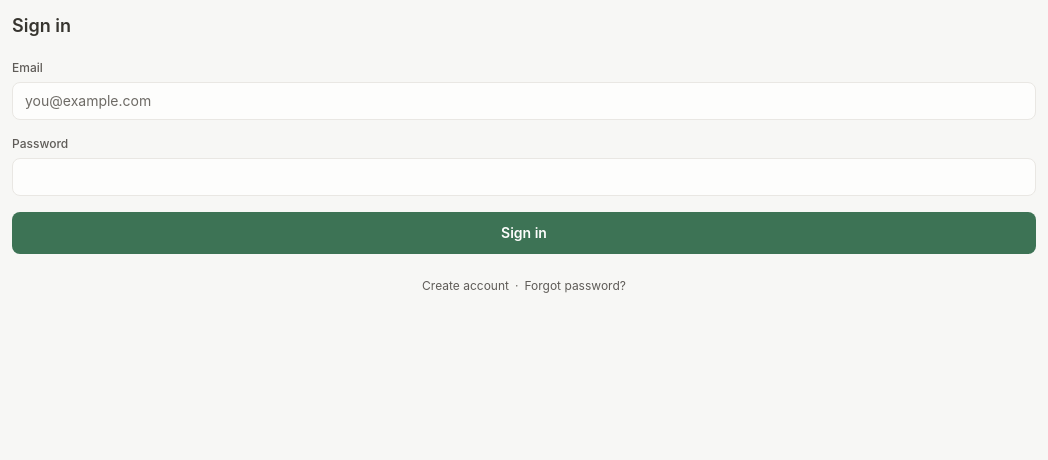
Test case: LoginPage error mapping › routes a server field error onto that field, including backup_code
Type "alex@example.com" into the field labelled "Email". click: (524, 101)
box: [12, 82, 1036, 120]
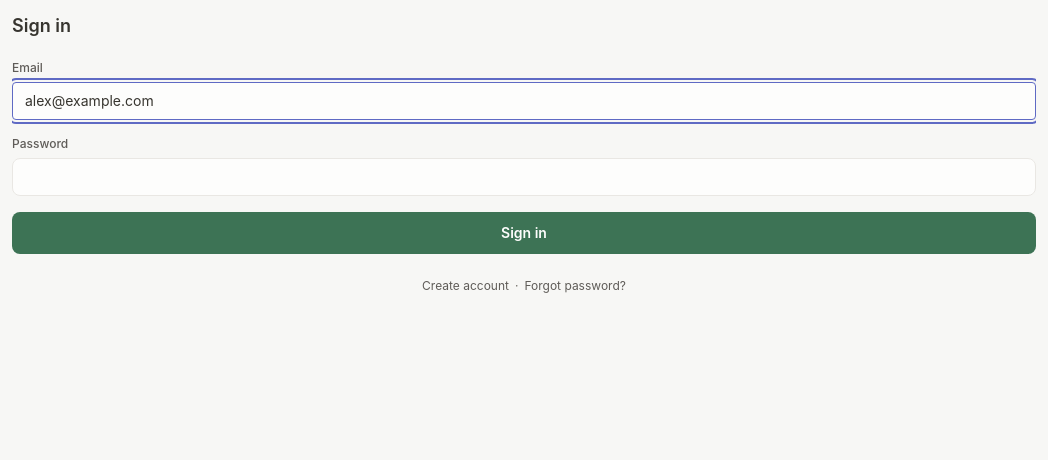
Type "hunter2boogaloo" into the password field labelled "Password". click: (524, 177)
box: [12, 158, 1036, 196]
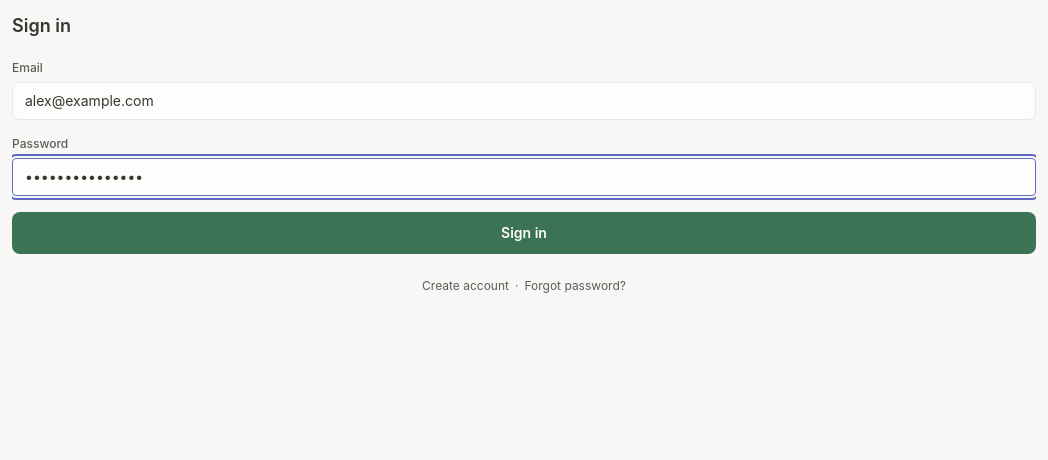
Click the button "Sign in". click: (524, 233)
box: [12, 212, 1036, 254]
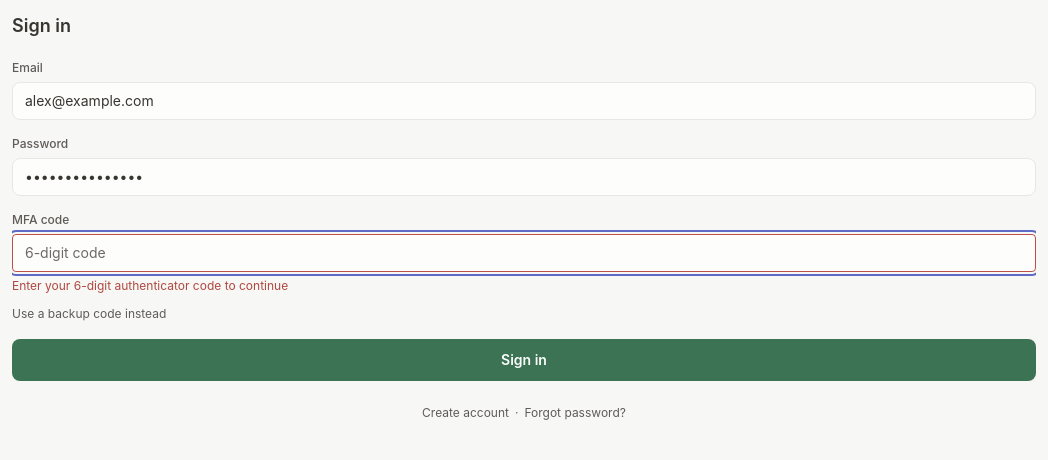
Click the button "Use a backup code instead". click: (89, 314)
box: [12, 306, 166, 322]
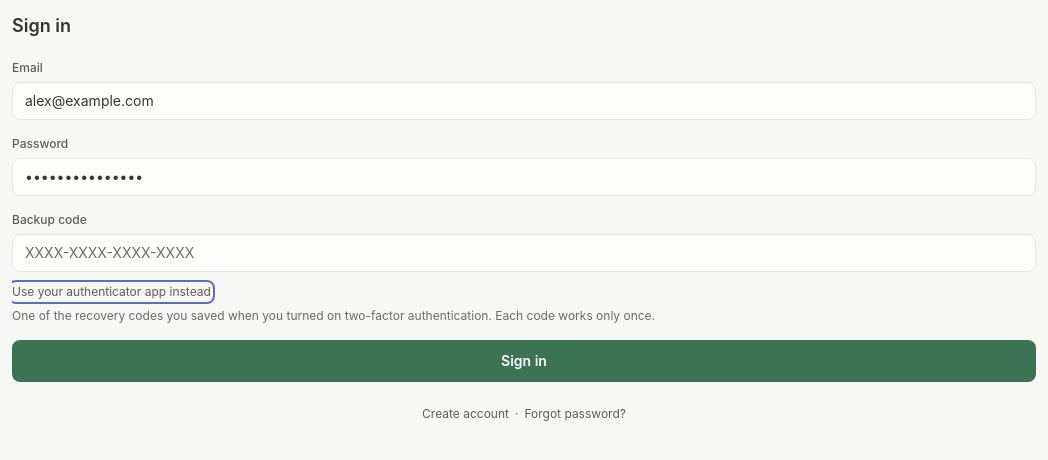
Click the button "Sign in". click: (524, 361)
box: [12, 340, 1036, 382]
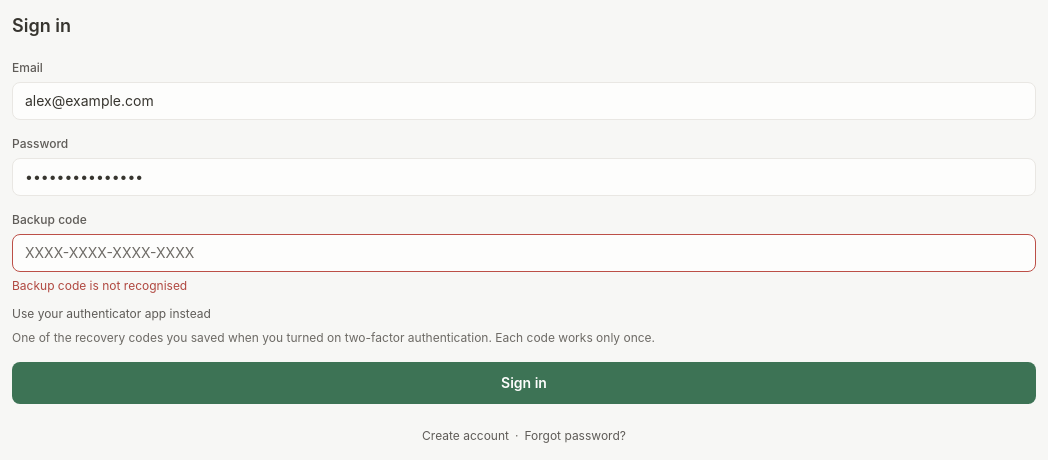
Expected: the message reads "Backup code is not recognised", [12, 278, 187, 293]
